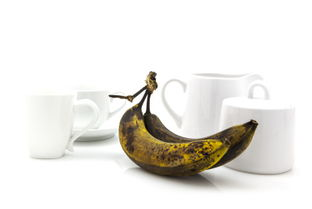Other: (119, 90, 231, 178), (143, 91, 258, 169)
